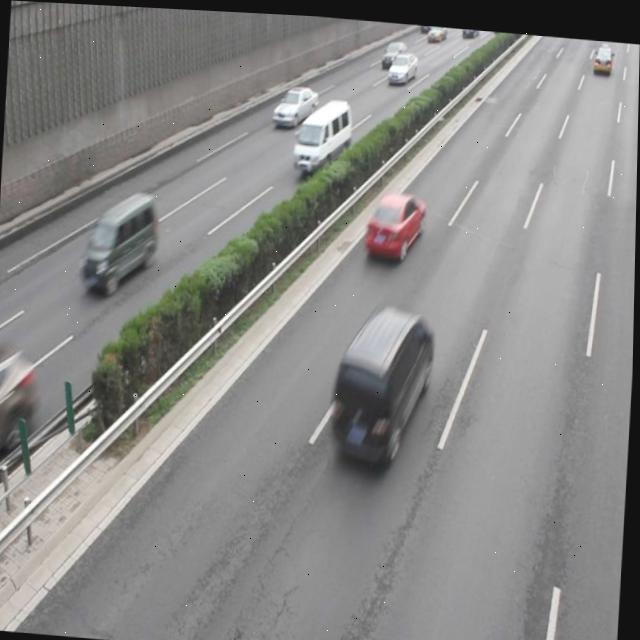car: (0, 339, 37, 504), (362, 183, 425, 260), (271, 79, 318, 128)
truck: (327, 298, 435, 467), (79, 185, 161, 299), (290, 92, 353, 174)
